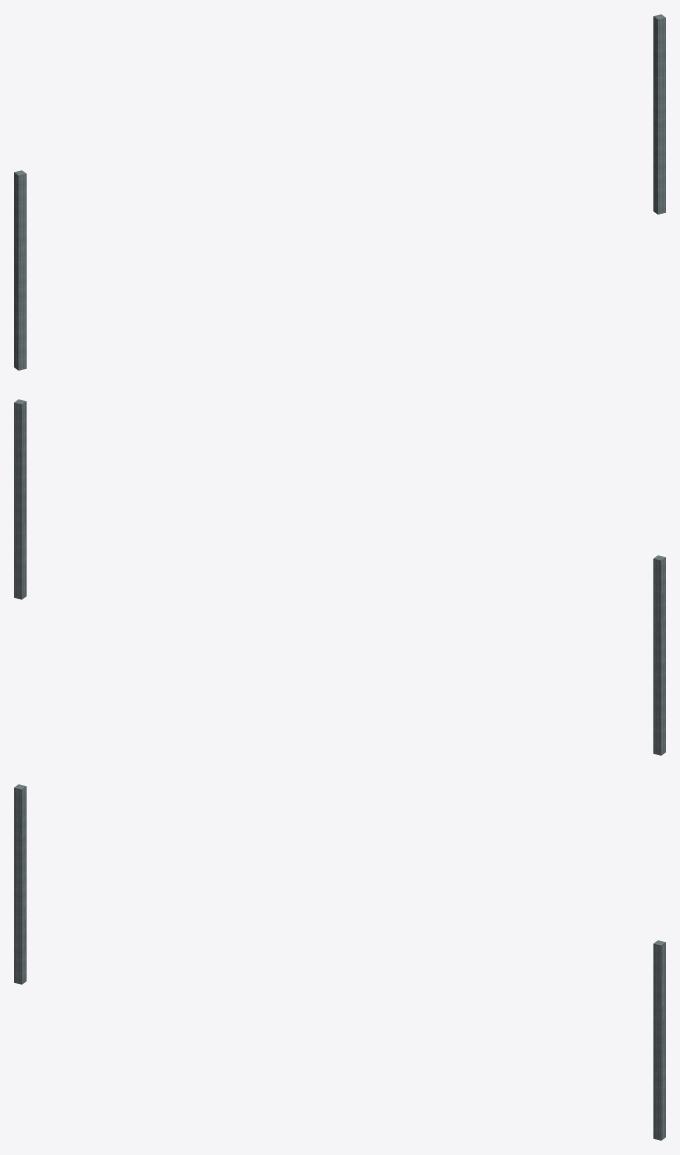
Rendered from fork_pass_posts_01.glb.
The picture shows the model from 3 angles, top to bottom: view 1: azimuth 30°, elevation 25°; view 2: azimuth 150°, elevation 25°; view 3: azimuth 330°, elevation 25°; orthographic projection.
Visible parts, largest first — view 1: fork_pass_posts_01; view 2: fork_pass_posts_01; view 3: fork_pass_posts_01.
Boxes of the visible parts, bbox=[...] form: fork_pass_posts_01: bbox=[14, 14, 665, 370]; fork_pass_posts_01: bbox=[14, 399, 665, 755]; fork_pass_posts_01: bbox=[14, 784, 665, 1140].
Size of the model in its own units: 48.6 by 14 by 0.6.
Materials: 1 (1 with a texture image).
